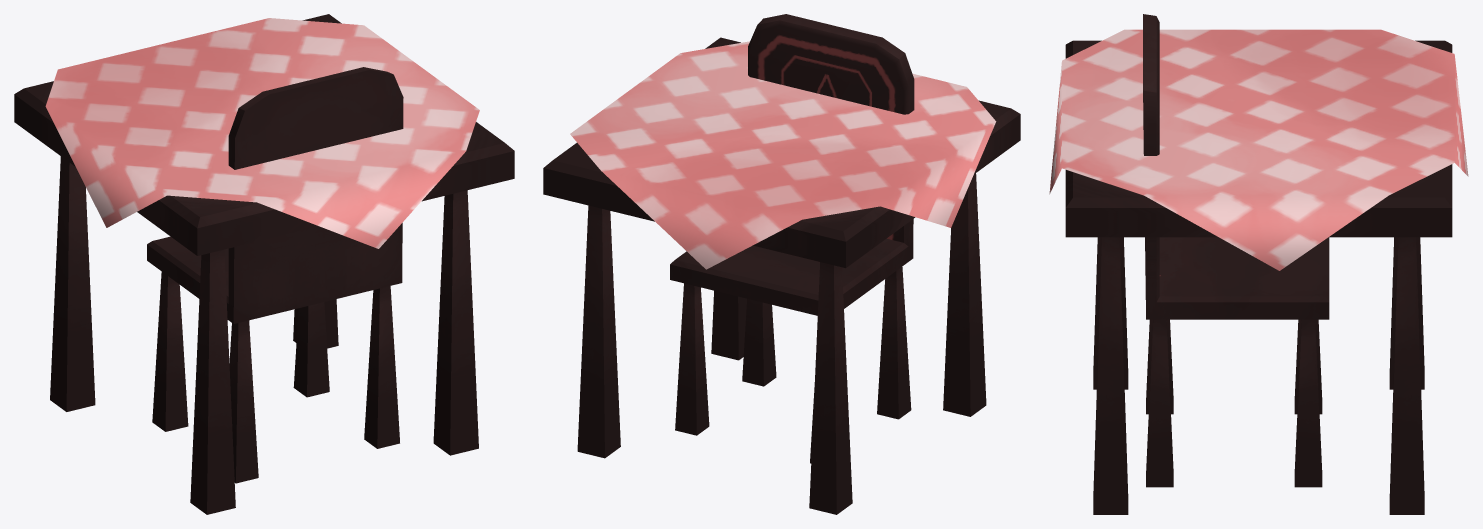
The model's file is ChairTable_Cmillman.fbx.
3 views of the same model, side by side, from view 1: azimuth 30°, elevation 25°; view 2: azimuth 150°, elevation 25°; view 3: azimuth 270°, elevation 25° (orthographic). The views are drawn at different scales.
Visible parts, largest first — view 1: Table, Chair; view 2: Table, Chair; view 3: Table, Chair.
Boxes of the visible parts, x1=… form: Table: x1=14, y1=14, x2=514, y2=514; Chair: x1=147, y1=67, x2=403, y2=483; Table: x1=543, y1=37, x2=1020, y2=514; Chair: x1=670, y1=14, x2=914, y2=463; Table: x1=1049, y1=29, x2=1468, y2=514; Chair: x1=1143, y1=14, x2=1329, y2=487.
Size of the model in its own units: 2.72 by 3.01 by 2.83.
Materials: 1 (1 with a texture image).
